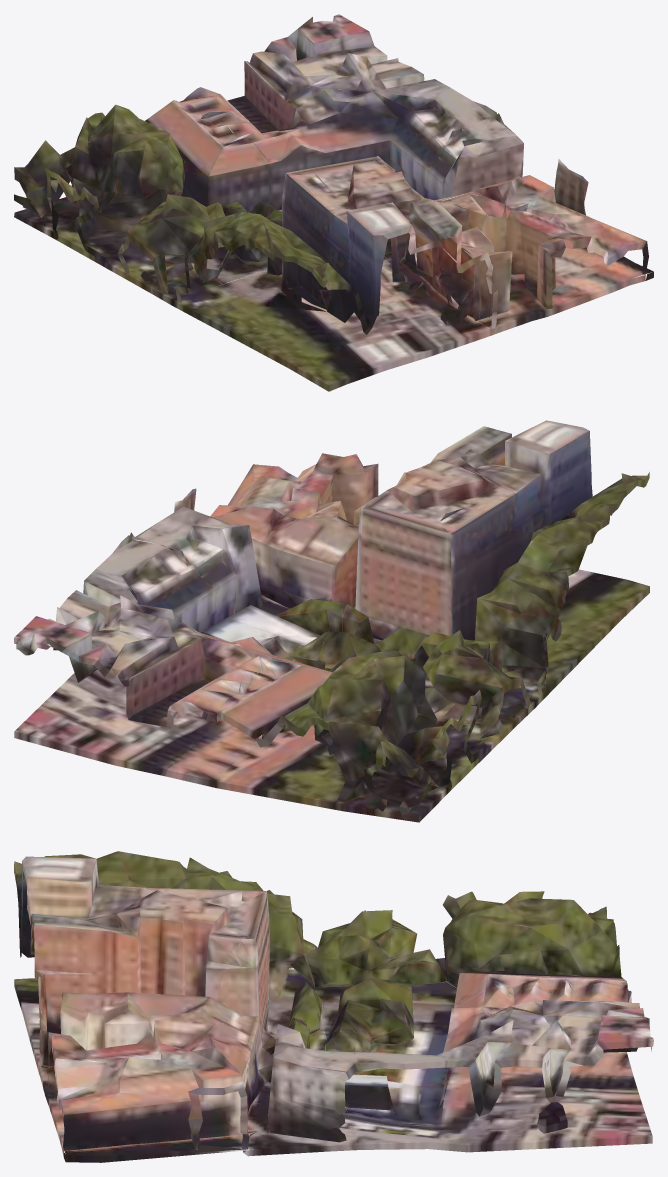
The picture shows the model from 3 angles, top to bottom: view 1: azimuth 30°, elevation 25°; view 2: azimuth 150°, elevation 25°; view 3: azimuth 270°, elevation 25°; orthographic projection. The views are drawn at different scales.
Visible parts, largest first — view 1: Mesh_0; view 2: Mesh_0; view 3: Mesh_0.
Boxes of the visible parts, left/top/right/bottom form: Mesh_0: left=14, top=14, right=653, bottom=391; Mesh_0: left=14, top=420, right=649, bottom=822; Mesh_0: left=14, top=851, right=653, bottom=1162.
Bounding box in the file's own units: 133 × 48.17 × 165.
1 material, 1 textured.
